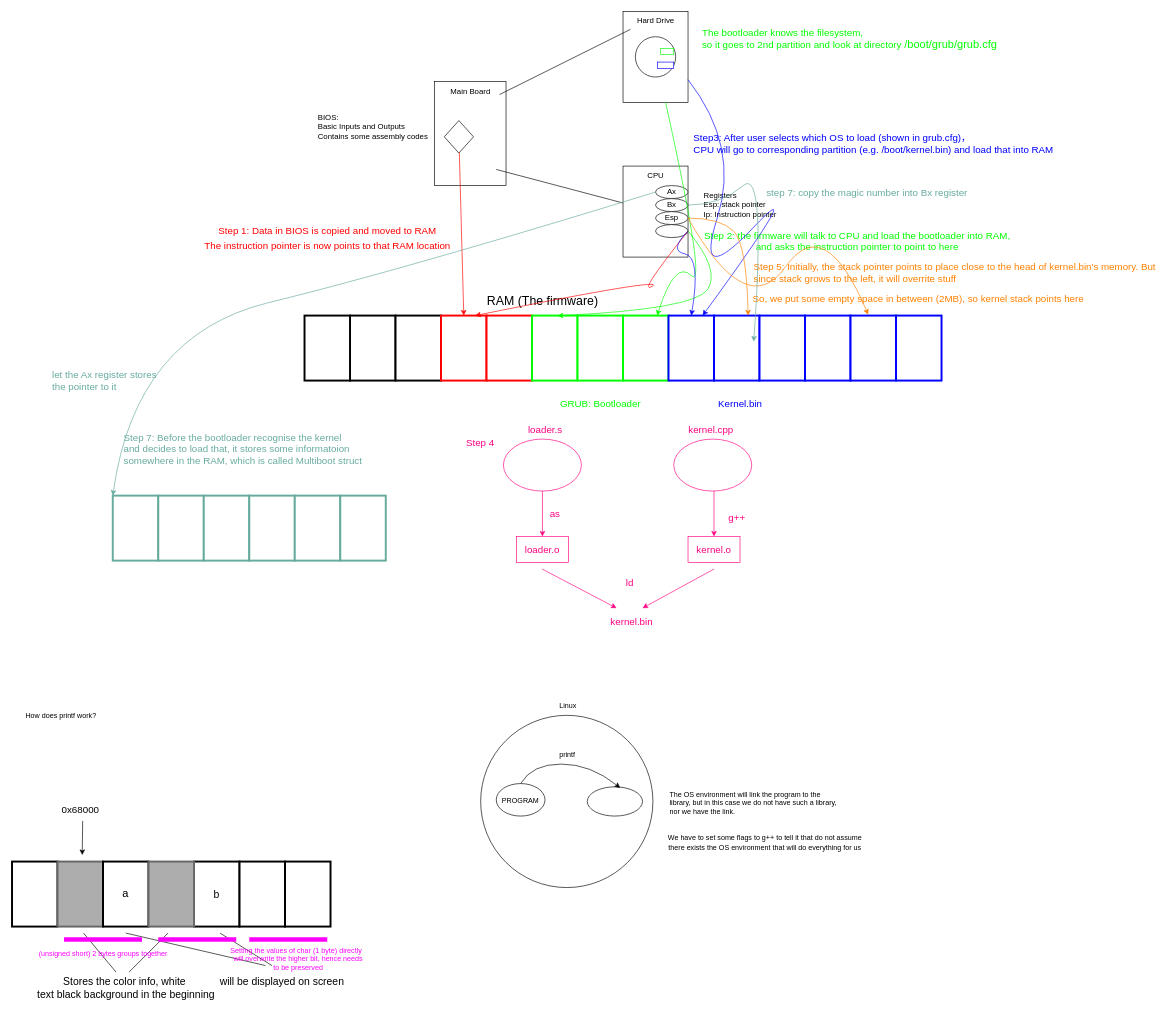
Some shapes in this 1174 by 1016 pixel diagram are drawn without their labels. The box of each missing label's shape, as (x1, y1, x2, y2) in pixels:
BIOS: (444, 120, 474, 153)
glibc: (587, 786, 643, 816)
Ip: (655, 224, 688, 238)
Step 6: Magic Number: 0x1badb002: (713, 314, 760, 381)
